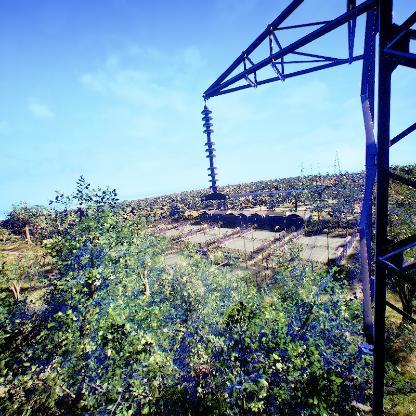insulator: (198, 108, 222, 194)
